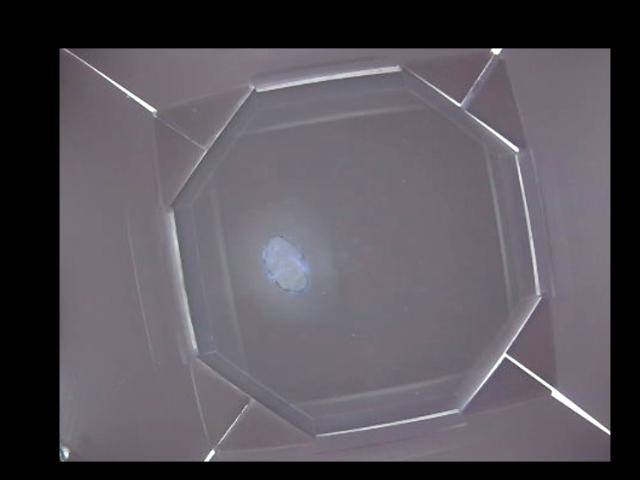Pebble: (262, 233, 304, 292)
